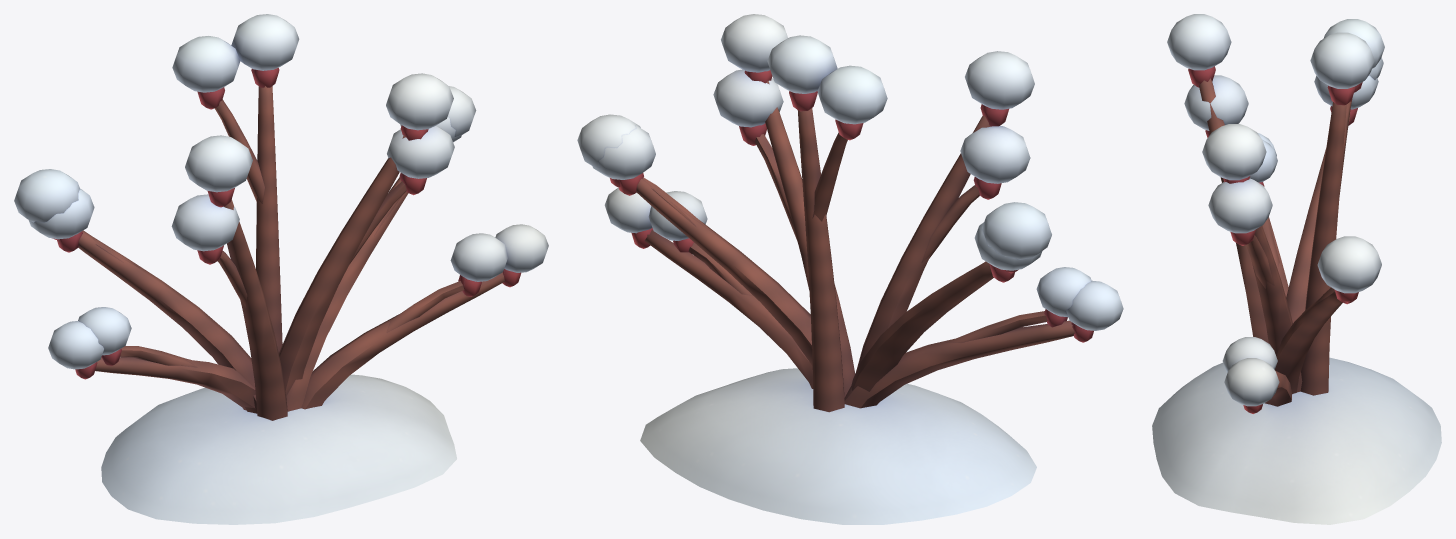
Rendered from FP_P04_WinterShrub.fbx.
The picture shows the model from 3 angles, left to right: view 1: azimuth 30°, elevation 25°; view 2: azimuth 150°, elevation 25°; view 3: azimuth 270°, elevation 25°; orthographic projection. The views are drawn at different scales.
Visible parts, largest first — view 1: Twigs, Base; view 2: Twigs, Base; view 3: Twigs, Base.
Part boxes in pixels (box(x1,y1,x2,y2)): Twigs: box(14, 14, 548, 420); Base: box(101, 374, 456, 524); Twigs: box(577, 14, 1123, 412); Base: box(640, 368, 1036, 524); Twigs: box(1167, 14, 1384, 413); Base: box(1152, 357, 1441, 524).
Bounding box in the file's own units: 0.9047 × 0.7311 × 0.4656.
